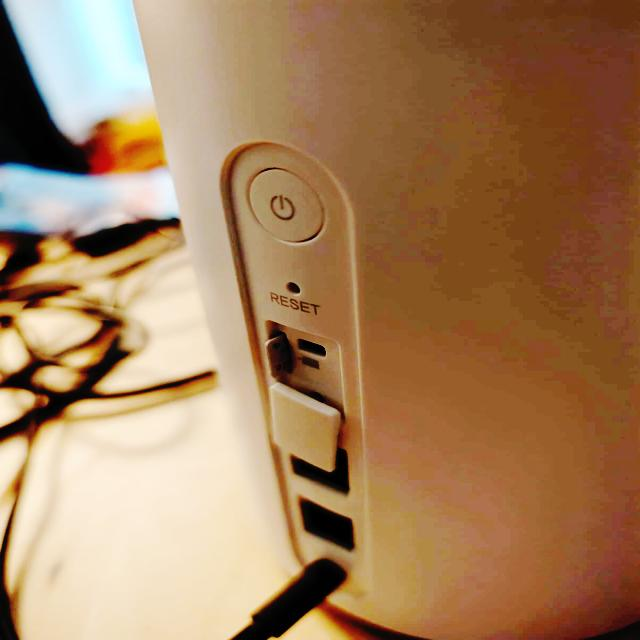lan: (296, 496, 360, 550)
modem: (142, 0, 640, 636)
onbutton: (246, 167, 330, 249)
